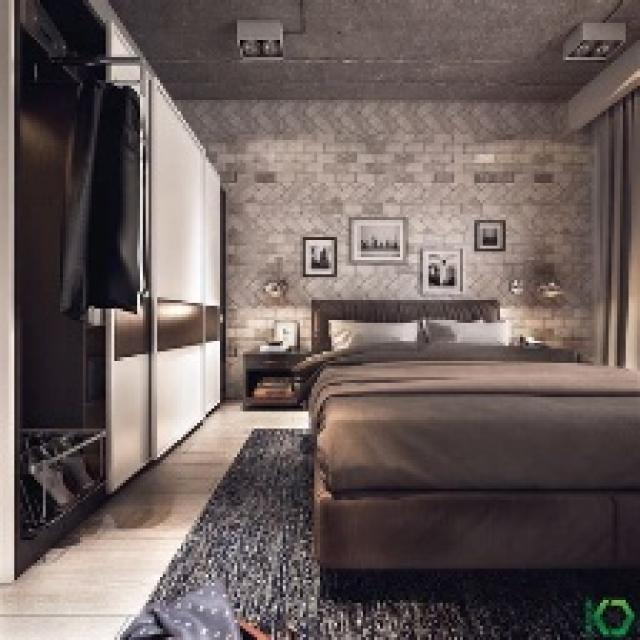bed: (306, 284, 640, 608)
